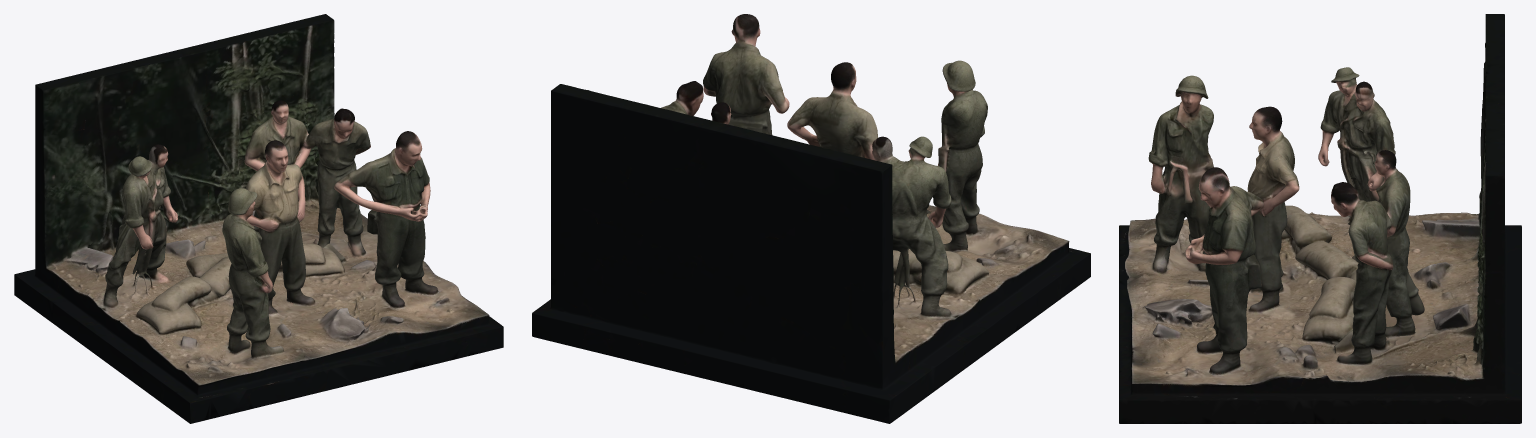
The model's file is do_cat_bi_bat.glb.
3 renders of one model, left to right at view 1: azimuth 30°, elevation 25°; view 2: azimuth 150°, elevation 25°; view 3: azimuth 270°, elevation 25°, orthographic. The views are drawn at different scales.
Size of the model in its own units: 1.53 by 0.9909 by 1.49.
Materials: 1 (1 with a texture image).
